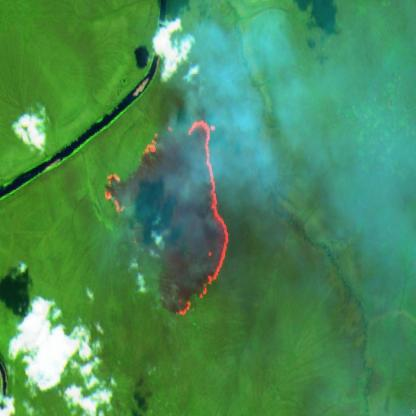fire: (103, 111, 232, 320)
